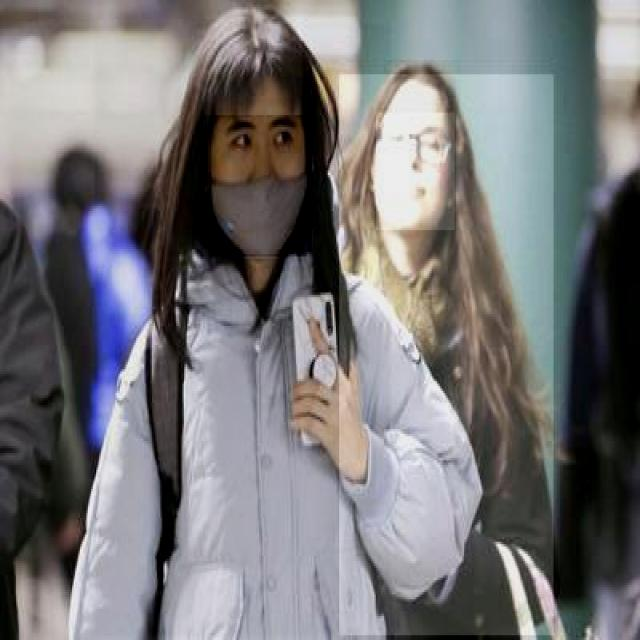face_mask: (208, 115, 312, 259)
face_nomask: (374, 112, 454, 232)
glasses: (378, 120, 456, 165)
hand_noglove: (288, 314, 362, 441)
head_nohelmet: (213, 17, 302, 112), (382, 60, 461, 122)
person: (93, 24, 390, 638), (338, 74, 554, 638)
